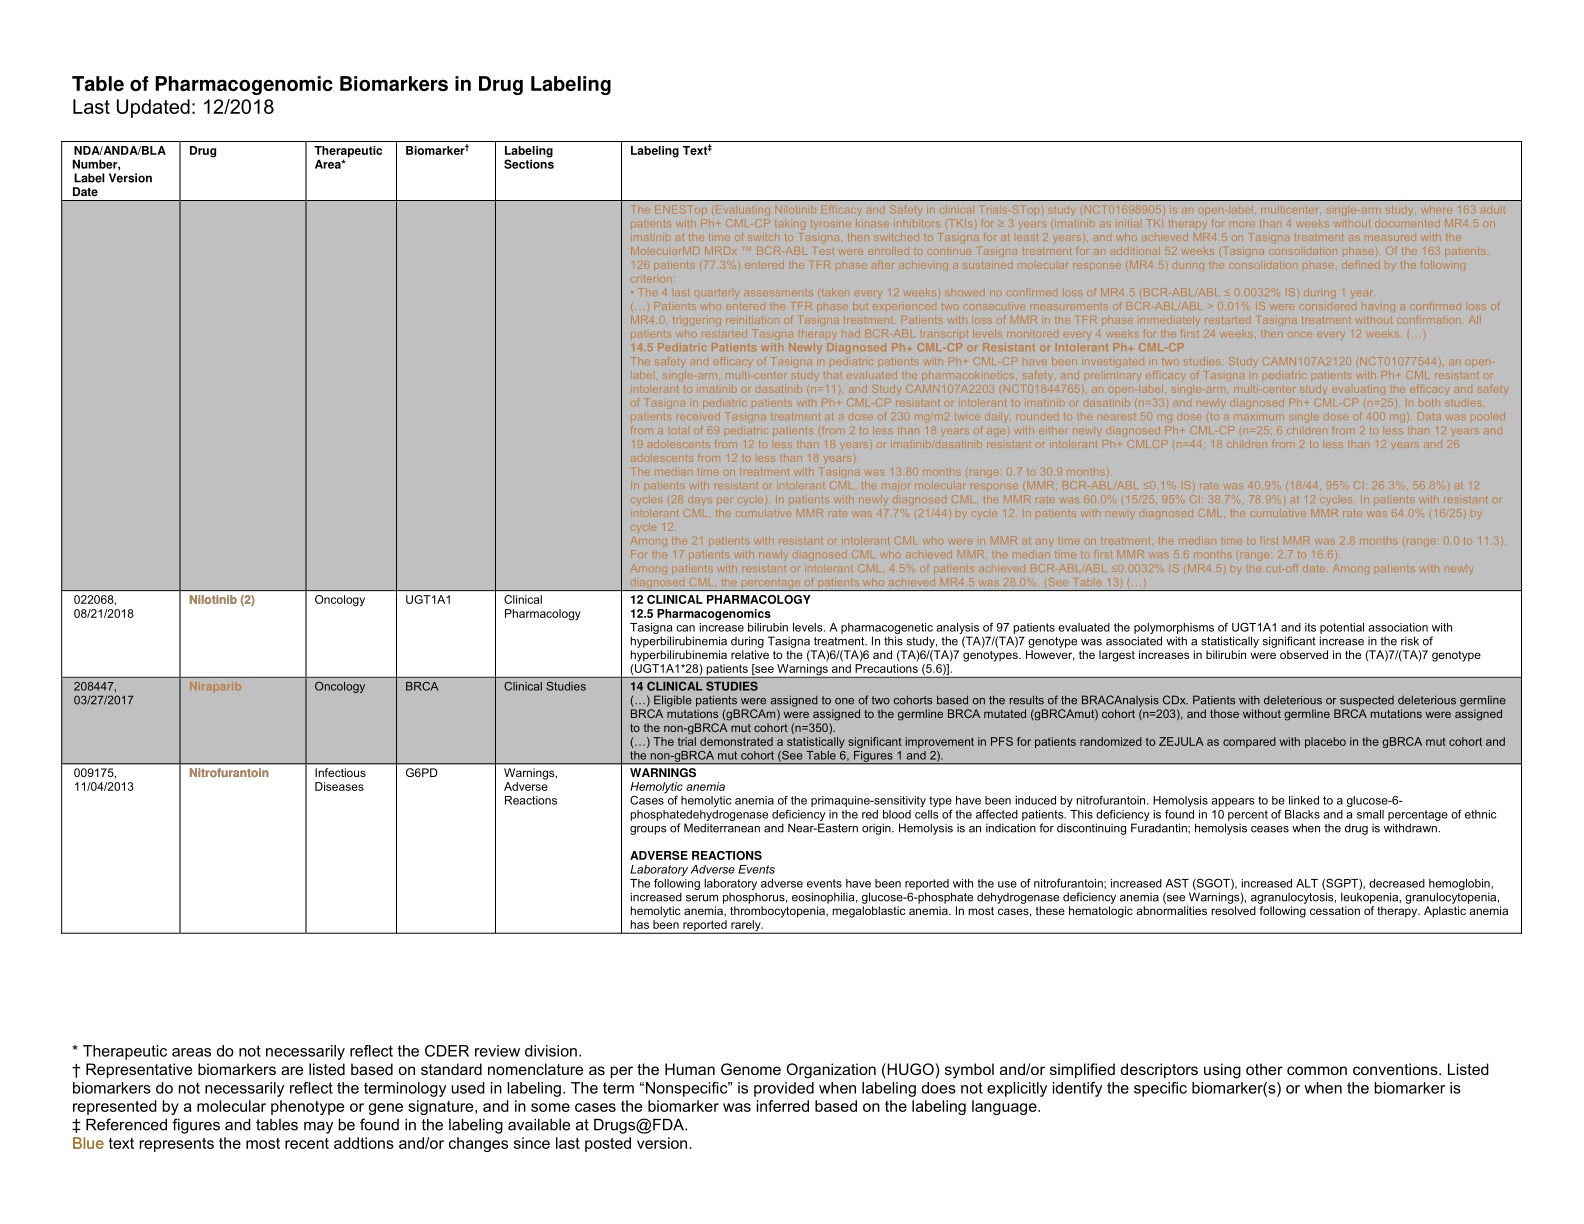full_lined: (59, 140, 1524, 935)
